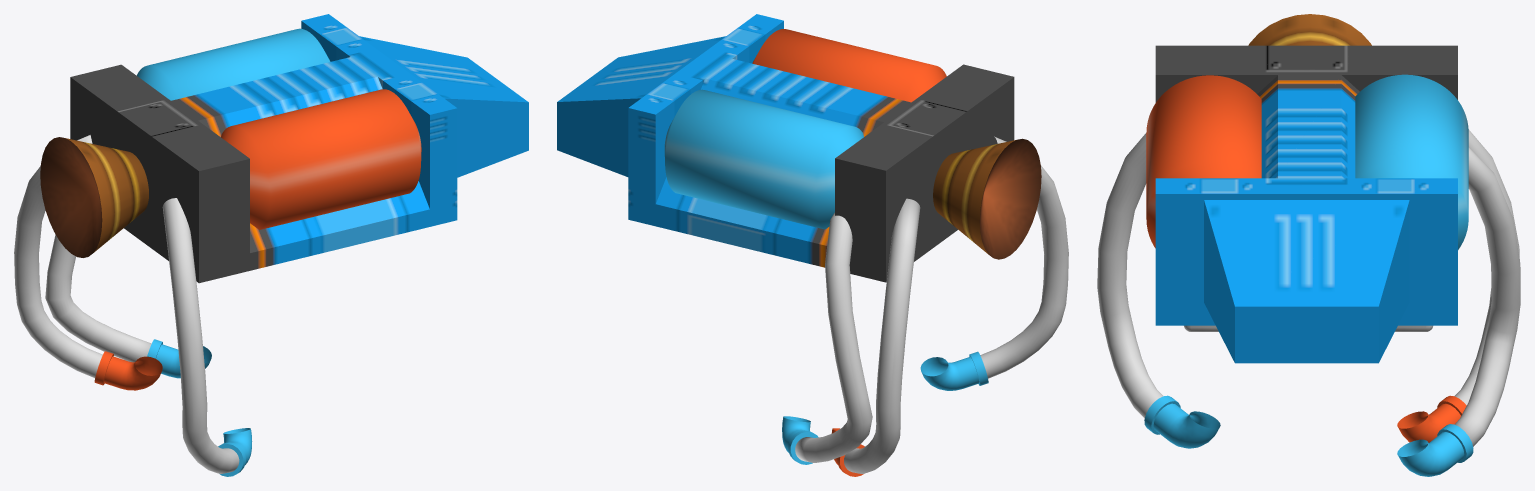
The model's file is bag.obj.
3 renders of one model, left to right at view 1: azimuth 30°, elevation 25°; view 2: azimuth 150°, elevation 25°; view 3: azimuth 270°, elevation 25°, orthographic. The views are drawn at different scales.
Visible parts, largest first — view 1: Bag_2_ColobotMesh_.003, Right_tank_2.001_ColobotMesh_.008, nozzle.001_ColobotMesh_.006, Right_bot_pipe_111.006, Left_tank.001_ColobotMesh_.004, Left_bot_pipe_111.000, Left_mid_pipe_111.005, Left_bot_pipe.001_111.043, Left_mid_pipe.001_111.038, Right_bot_pipe.001_111.019; view 2: Bag_2_ColobotMesh_.003, Left_tank.001_ColobotMesh_.004, nozzle.001_ColobotMesh_.006, Right_tank_2.001_ColobotMesh_.008, Left_bot_pipe_111.000, Left_mid_pipe_111.005, Right_bot_pipe_111.006, Right_bot_pipe.001_111.019, Left_mid_pipe.001_111.038; view 3: Bag_2_ColobotMesh_.003, Right_tank_2.001_ColobotMesh_.008, Left_tank.001_ColobotMesh_.004, Left_mid_pipe_111.005, Right_bot_pipe_111.006, nozzle.001_ColobotMesh_.006, Right_bot_pipe.001_111.019, Left_mid_pipe.001_111.038, Left_bot_pipe_111.000, Left_bot_pipe.001_111.043, Right_bot_pipe.004_111.017, Left_mid_pipe.004_111.041.
Part boxes in pixels (left/top/right/bottom): Bag_2_ColobotMesh_.003: left=70, top=14, right=528, bottom=283; Right_tank_2.001_ColobotMesh_.008: left=221, top=89, right=421, bottom=229; nozzle.001_ColobotMesh_.006: left=40, top=137, right=148, bottom=257; Right_bot_pipe_111.006: left=162, top=198, right=239, bottom=473; Left_tank.001_ColobotMesh_.004: left=137, top=28, right=330, bottom=100; Left_bot_pipe_111.000: left=14, top=135, right=102, bottom=377; Left_mid_pipe_111.005: left=45, top=234, right=151, bottom=362; Left_bot_pipe.001_111.043: left=104, top=356, right=162, bottom=390; Left_mid_pipe.001_111.038: left=156, top=344, right=211, bottom=378; Right_bot_pipe.001_111.019: left=223, top=428, right=252, bottom=464; Bag_2_ColobotMesh_.003: left=557, top=14, right=1014, bottom=282; Left_tank.001_ColobotMesh_.004: left=664, top=89, right=863, bottom=229; nozzle.001_ColobotMesh_.006: left=933, top=138, right=1041, bottom=259; Right_tank_2.001_ColobotMesh_.008: left=752, top=29, right=946, bottom=102; Left_bot_pipe_111.000: left=844, top=198, right=920, bottom=473; Left_mid_pipe_111.005: left=795, top=212, right=872, bottom=462; Right_bot_pipe_111.006: left=980, top=136, right=1068, bottom=378; Right_bot_pipe.001_111.019: left=920, top=356, right=979, bottom=390; Left_mid_pipe.001_111.038: left=782, top=416, right=810, bottom=452; Bag_2_ColobotMesh_.003: left=1155, top=45, right=1457, bottom=363; Right_tank_2.001_ColobotMesh_.008: left=1146, top=75, right=1261, bottom=248; Left_tank.001_ColobotMesh_.004: left=1355, top=74, right=1468, bottom=249; Left_mid_pipe_111.005: left=1455, top=147, right=1520, bottom=446; Right_bot_pipe_111.006: left=1097, top=132, right=1162, bottom=418; nozzle.001_ColobotMesh_.006: left=1248, top=14, right=1371, bottom=45; Right_bot_pipe.001_111.019: left=1153, top=403, right=1220, bottom=448; Left_mid_pipe.001_111.038: left=1397, top=432, right=1464, bottom=476; Left_bot_pipe_111.000: left=1454, top=129, right=1519, bottom=405; Left_bot_pipe.001_111.043: left=1397, top=403, right=1460, bottom=442; Right_bot_pipe.004_111.017: left=1144, top=395, right=1180, bottom=434; Left_mid_pipe.004_111.041: left=1437, top=424, right=1473, bottom=462.
Size of the model in its own units: 4.73 by 3.45 by 3.47.
